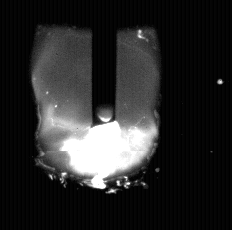arame: (93, 0, 117, 124)
poca: (40, 0, 151, 230)
